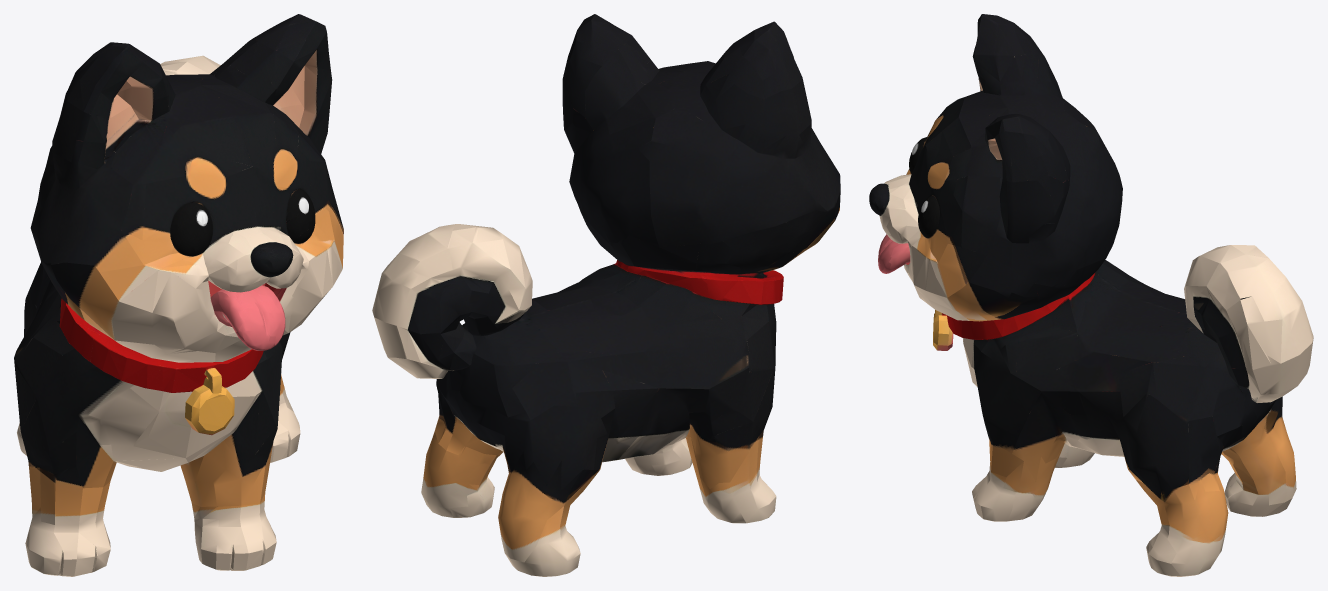
File: dog.glb
3 views of the same model, side by side, from view 1: azimuth 30°, elevation 25°; view 2: azimuth 150°, elevation 25°; view 3: azimuth 270°, elevation 25° (orthographic). The views are drawn at different scales.
Bounding box in the file's own units: 1.34 × 1.9 × 1.7.
1 material, 1 textured.
